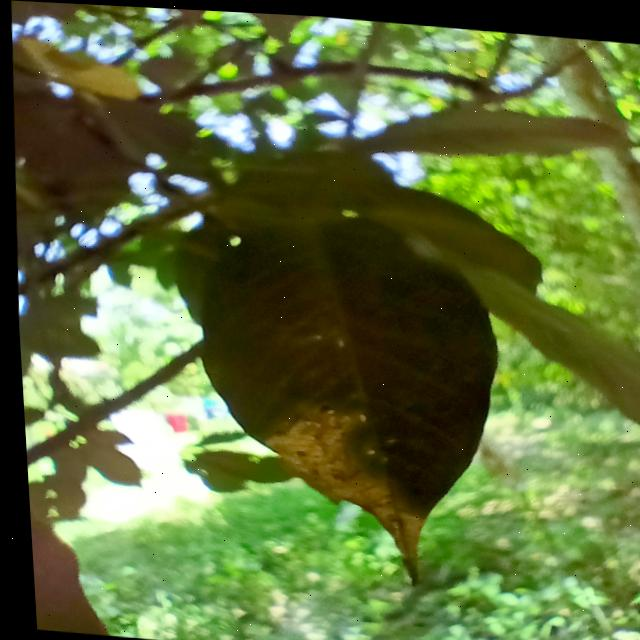Leaf-Blight: (233, 399, 423, 562)
